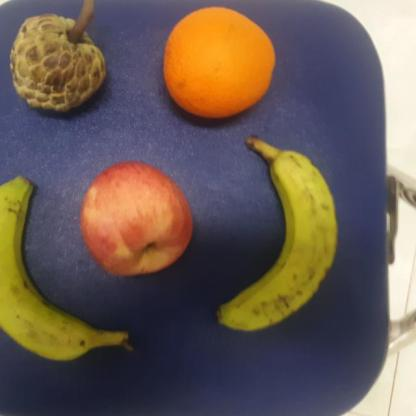annona: (6, 11, 116, 120)
apple: (77, 156, 197, 284)
banana: (0, 173, 133, 365), (216, 137, 340, 335)
orange: (161, 5, 278, 120)
